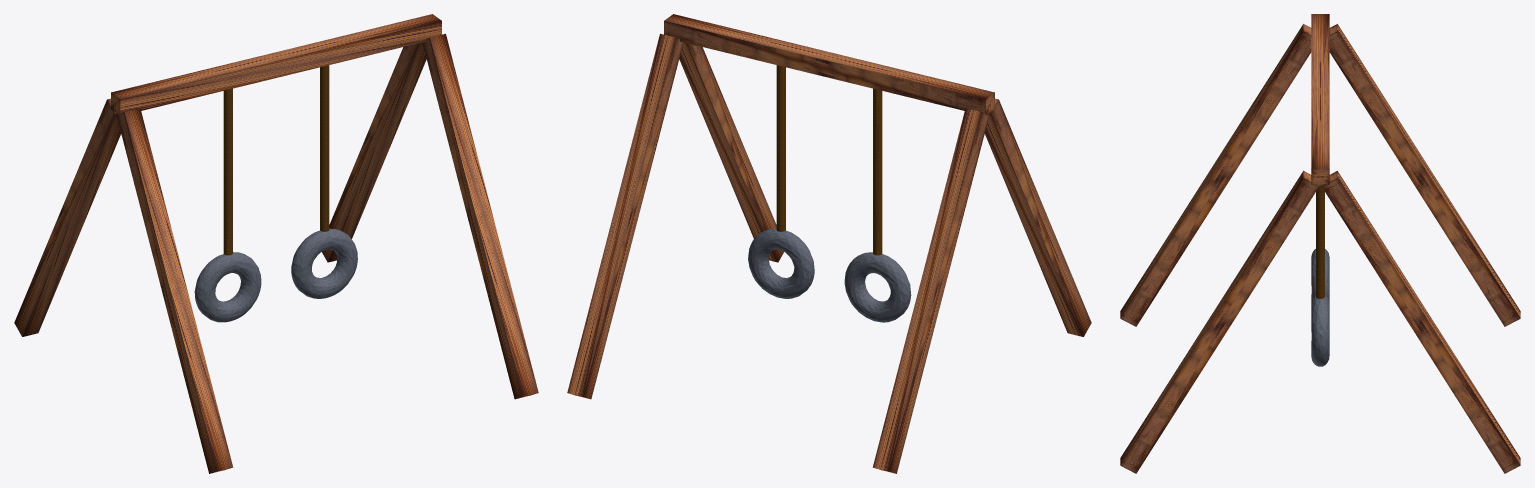
Rendered from swing.obj.
The picture shows the model from 3 angles, left to right: view 1: azimuth 30°, elevation 25°; view 2: azimuth 150°, elevation 25°; view 3: azimuth 270°, elevation 25°; orthographic projection.
Visible parts, largest first — view 1: Left_Front_Frame_Object.2, Right_Front_Frame_Object.4, Top_Frame_Object.1, Left_Back_Frame_Object.3, Right_Back_Frame_Object.5, Left_Hoop_Object.7, Right_Hoop_Object.9, Left_Rope_Object.6_Cylinder, Right_Rope_Object.8_Cylinder; view 2: Left_Back_Frame_Object.3, Right_Back_Frame_Object.5, Top_Frame_Object.1, Left_Front_Frame_Object.2, Right_Front_Frame_Object.4, Left_Hoop_Object.7, Right_Hoop_Object.9, Left_Rope_Object.6_Cylinder, Right_Rope_Object.8_Cylinder; view 3: Right_Back_Frame_Object.5, Right_Front_Frame_Object.4, Left_Front_Frame_Object.2, Left_Back_Frame_Object.3, Top_Frame_Object.1, Right_Hoop_Object.9, Right_Rope_Object.8_Cylinder, Left_Hoop_Object.7.
Part boxes in pixels (box(x1,y1,x2,y2)): Left_Front_Frame_Object.2: box(116, 108, 233, 473); Right_Front_Frame_Object.4: box(422, 33, 538, 399); Top_Frame_Object.1: box(111, 14, 441, 115); Left_Back_Frame_Object.3: box(14, 98, 121, 336); Right_Back_Frame_Object.5: box(322, 42, 426, 262); Left_Hoop_Object.7: box(194, 252, 261, 322); Right_Hoop_Object.9: box(291, 228, 357, 298); Left_Rope_Object.6_Cylinder: box(223, 88, 232, 255); Right_Rope_Object.8_Cylinder: box(320, 65, 329, 231); Left_Back_Frame_Object.3: box(872, 108, 989, 473); Right_Back_Frame_Object.5: box(567, 33, 683, 399); Top_Frame_Object.1: box(664, 14, 994, 115); Left_Front_Frame_Object.2: box(984, 98, 1091, 336); Right_Front_Frame_Object.4: box(679, 42, 783, 262); Left_Hoop_Object.7: box(844, 252, 911, 322); Right_Hoop_Object.9: box(748, 228, 814, 298); Left_Rope_Object.6_Cylinder: box(873, 88, 882, 255); Right_Rope_Object.8_Cylinder: box(776, 65, 785, 231); Right_Back_Frame_Object.5: box(1321, 171, 1520, 473); Right_Front_Frame_Object.4: box(1120, 171, 1319, 473); Left_Front_Frame_Object.2: box(1120, 24, 1311, 326); Left_Back_Frame_Object.3: box(1329, 24, 1520, 326); Top_Frame_Object.1: box(1311, 14, 1329, 185); Right_Hoop_Object.9: box(1311, 295, 1329, 366); Right_Rope_Object.8_Cylinder: box(1316, 185, 1324, 298); Left_Hoop_Object.7: box(1311, 249, 1329, 302).
Size of the model in its own units: 200 by 184 by 219.
